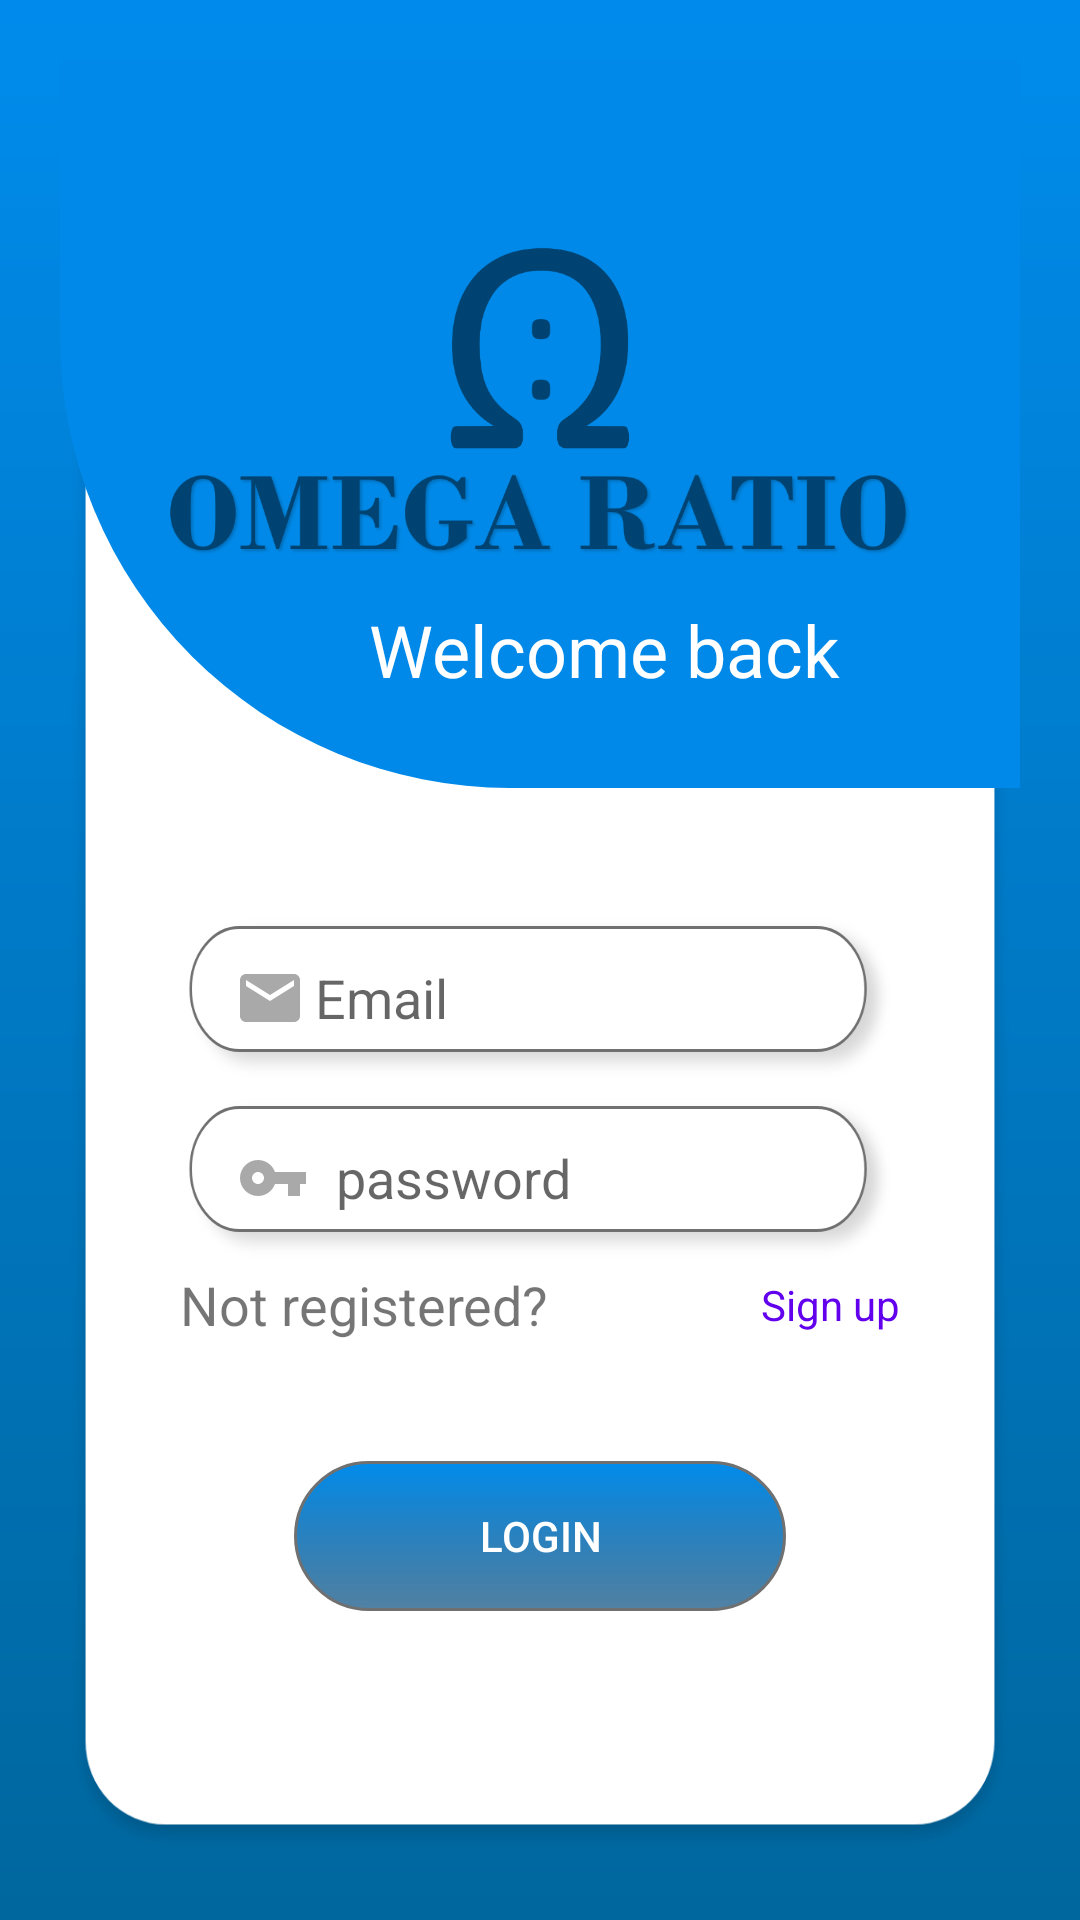

Icon click points for this 1080*1920 phone screenshot, format [x,y]:
key: [273,1178]
